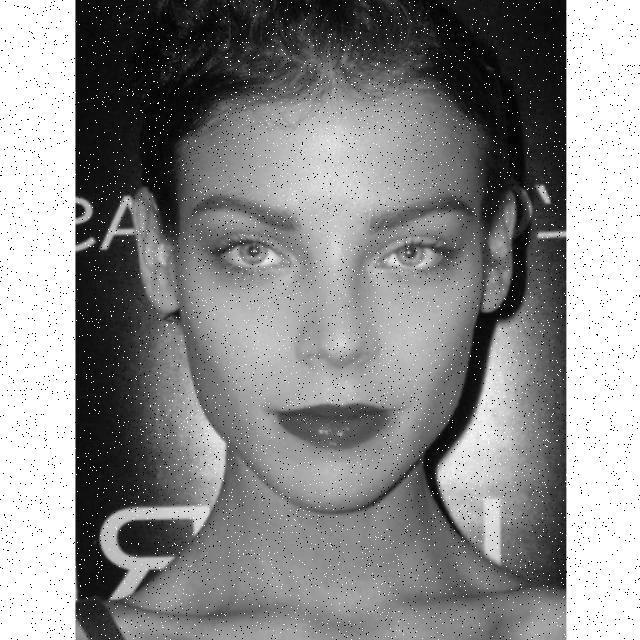real: (178, 116, 488, 508)
